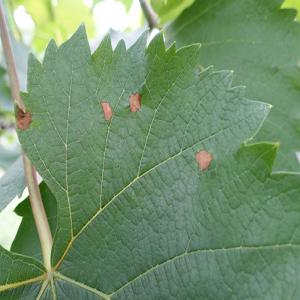Folha: (3, 18, 299, 298)
Fungo: (15, 104, 32, 130), (194, 149, 213, 171), (128, 92, 142, 112), (100, 100, 114, 120)
